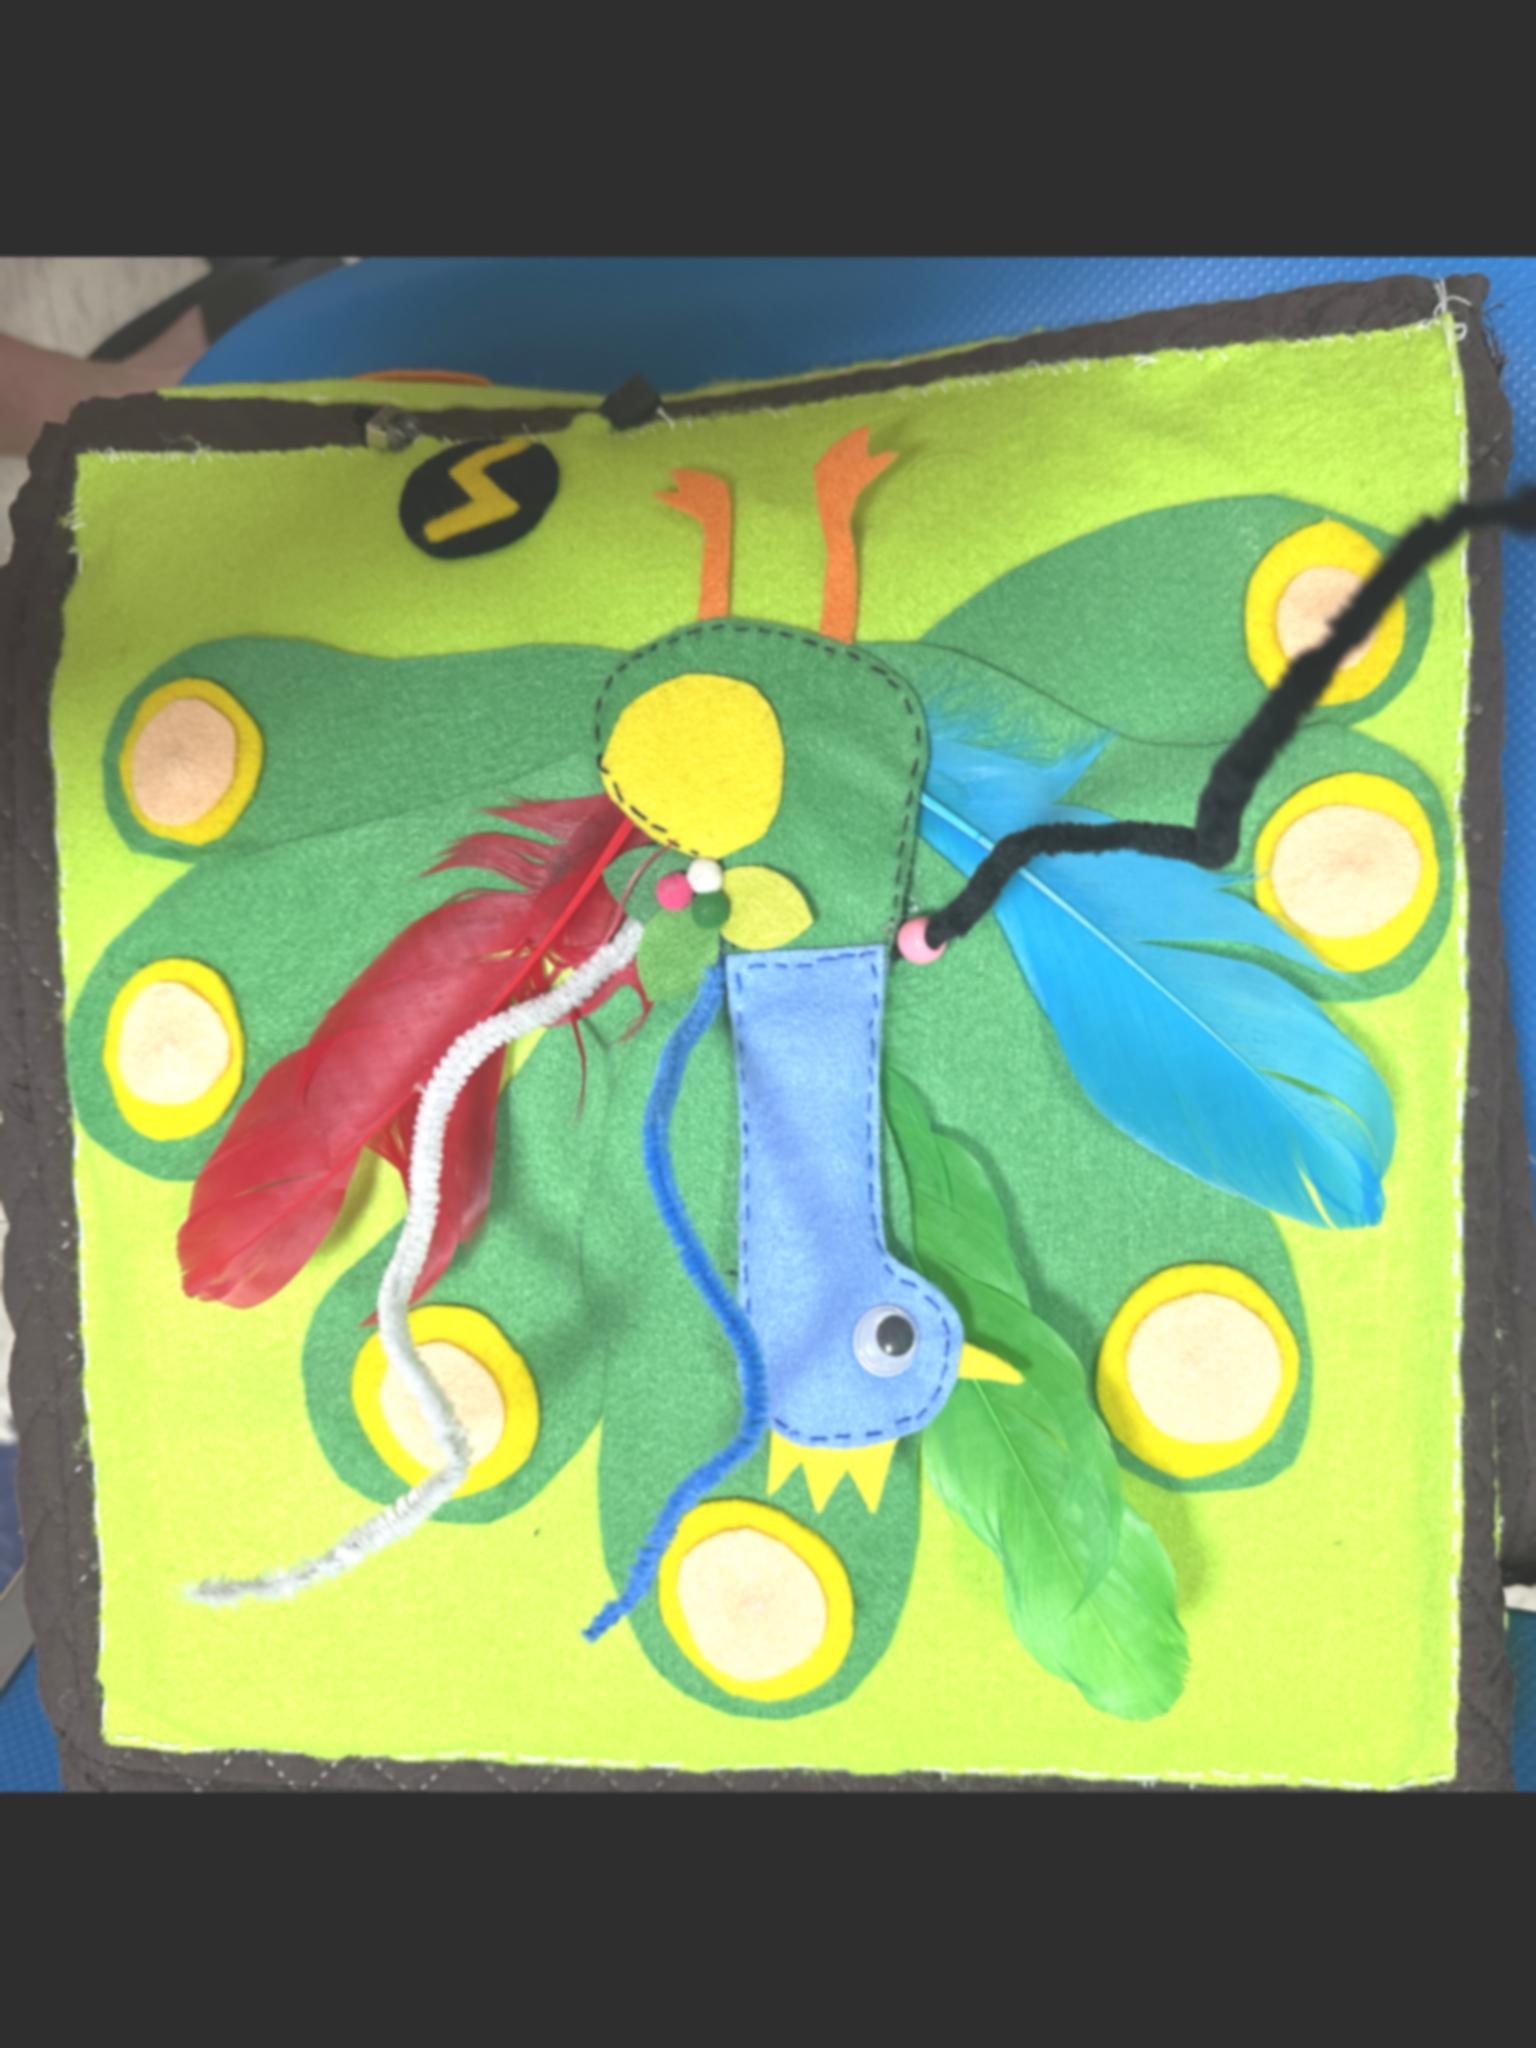bead: (873, 898, 966, 985)
